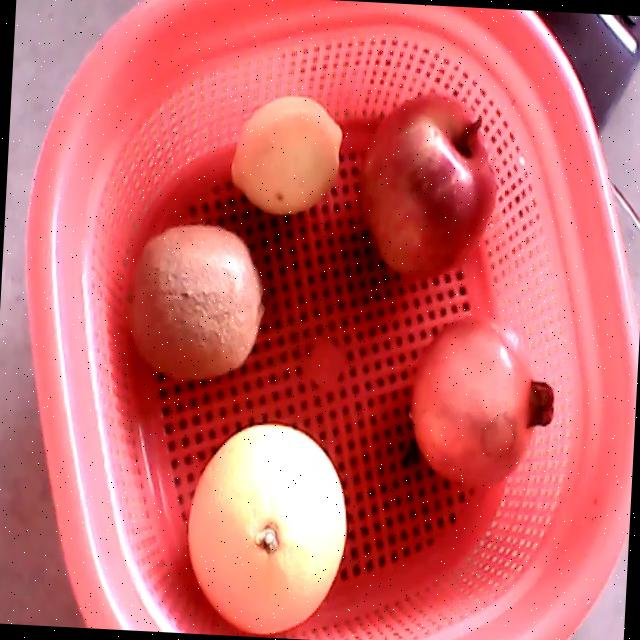apple: (359, 92, 498, 277)
kiwi: (130, 224, 266, 381)
lemon: (231, 95, 342, 214)
orange: (187, 423, 347, 635)
pomegranate: (411, 316, 554, 485)
